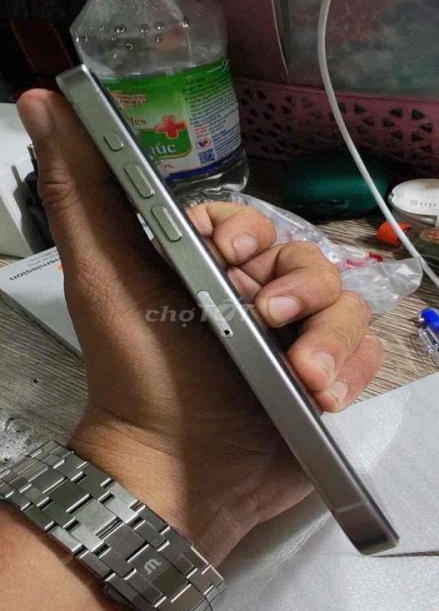scratch: (206, 308, 267, 409), (280, 432, 340, 517)
